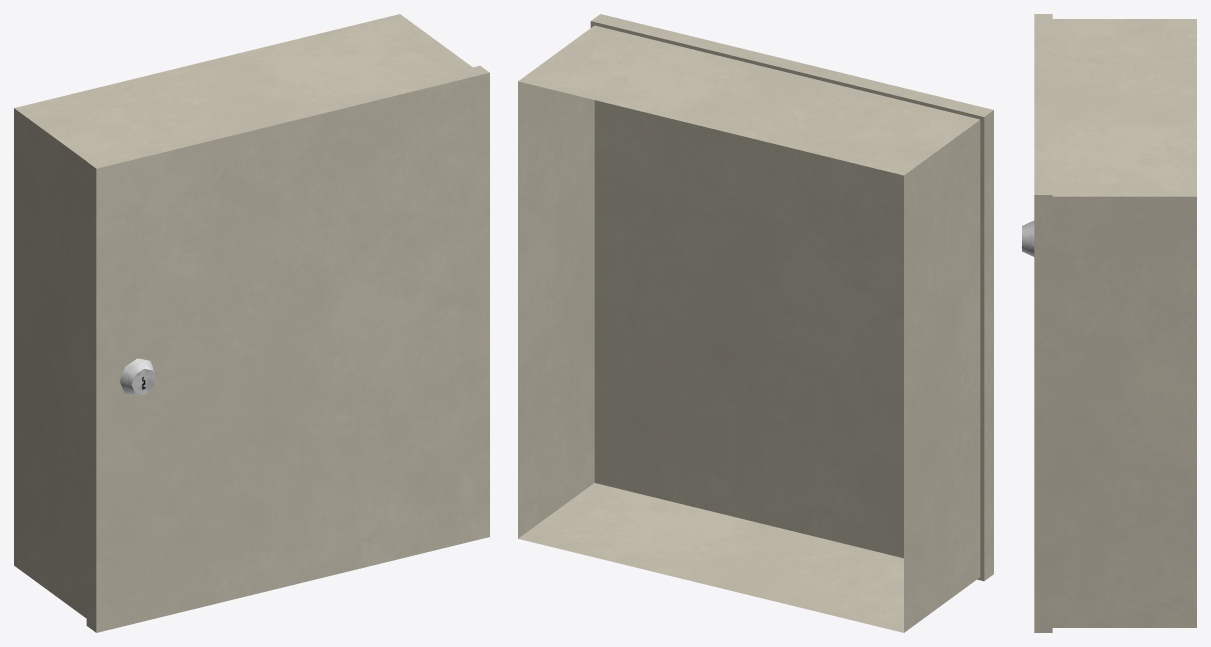
The model's file is power box.FBX.
3 views of the same model, side by side, from view 1: azimuth 30°, elevation 25°; view 2: azimuth 150°, elevation 25°; view 3: azimuth 270°, elevation 25° (orthographic). The views are drawn at different scales.
Visible parts, largest first — view 1: power box; view 2: power box; view 3: power box.
Boxes of the visible parts, x1=… form: power box: x1=14, y1=14, x2=489, y2=632; power box: x1=518, y1=14, x2=993, y2=632; power box: x1=1022, y1=14, x2=1196, y2=632.
Bounding box in the file's own units: 58.24 × 65.67 × 23.75.
1 material, 1 textured.
